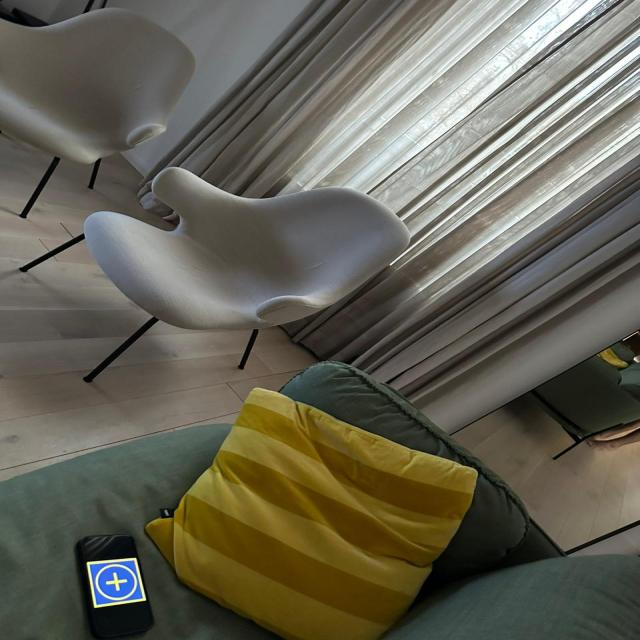Marker: (75, 554, 152, 610)
